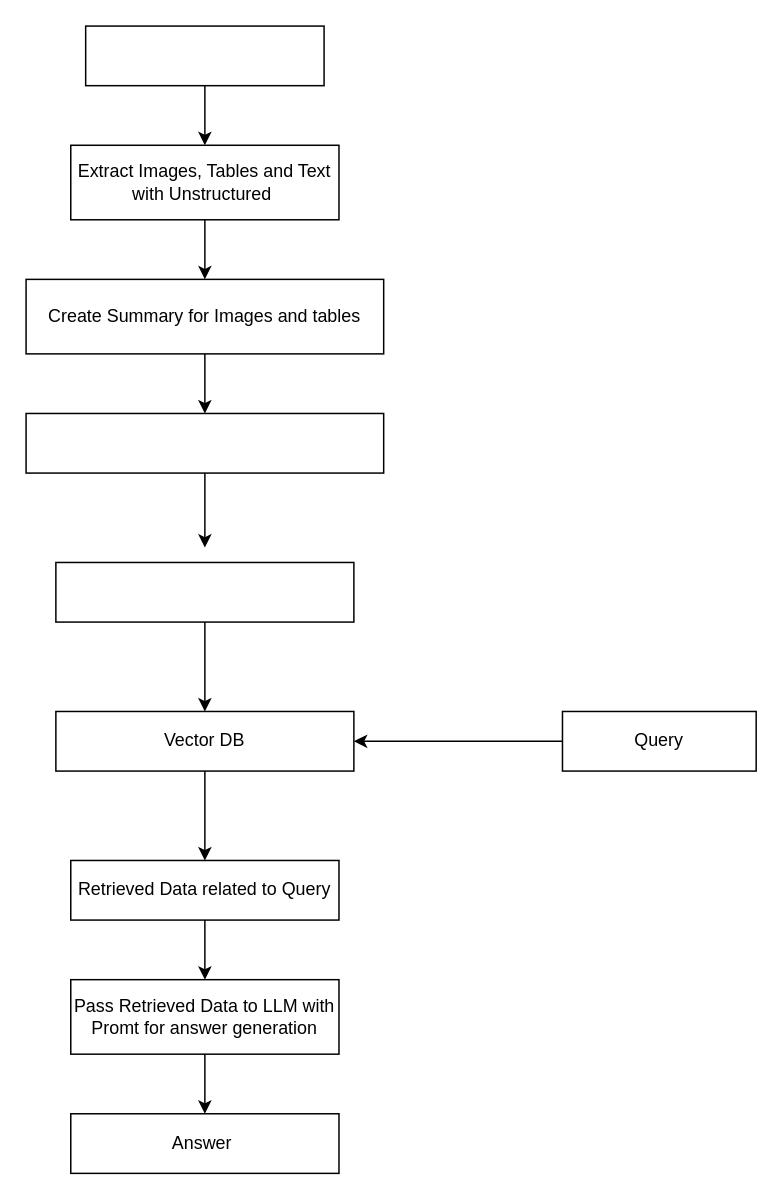
Some shapes in this 782 by 1199 pixel diagram are drawn without their labels. The shapes that lost their labels are listed below. From the top down, each one's box as (x1, y1, x2, y2) in pixels, then its label:
(84, 25, 324, 86): Data (pdf, html, md files)
(25, 412, 384, 473): Store text, image and text summaries in vector store.
(54, 561, 354, 622): Embed data and Store in Vector DB
